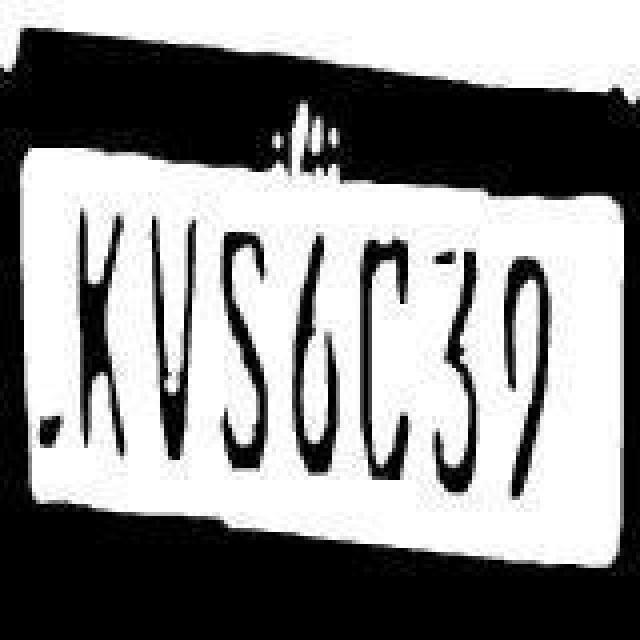3: (428, 220, 492, 516)
6: (284, 218, 356, 526)
9: (496, 224, 560, 512)
C: (360, 222, 424, 522)
K: (66, 182, 142, 490)
S: (208, 212, 280, 516)
V: (150, 188, 202, 484)
